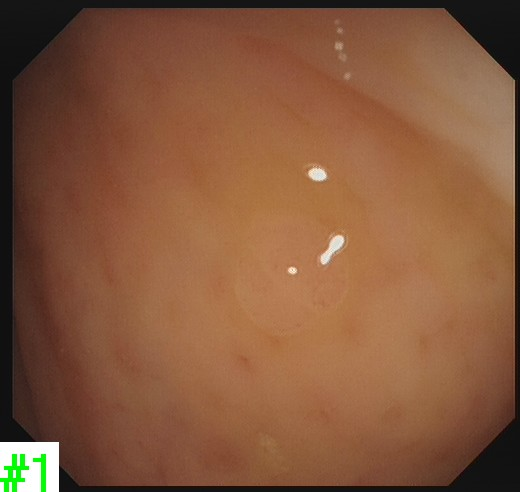others: (229, 207, 355, 340)
